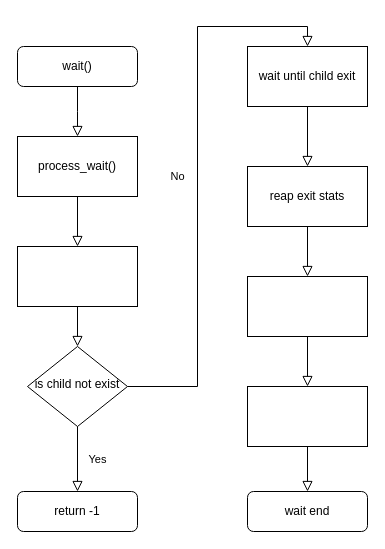
The diagram is 385 pixels wide and 549 high, and some of its shapes have lost their labels. Each missing label, with the box of its shape:
get child by tid: (16, 246, 138, 306)
remove child from child list: (246, 276, 368, 336)
wake up child from reaping lock: (246, 386, 368, 446)
